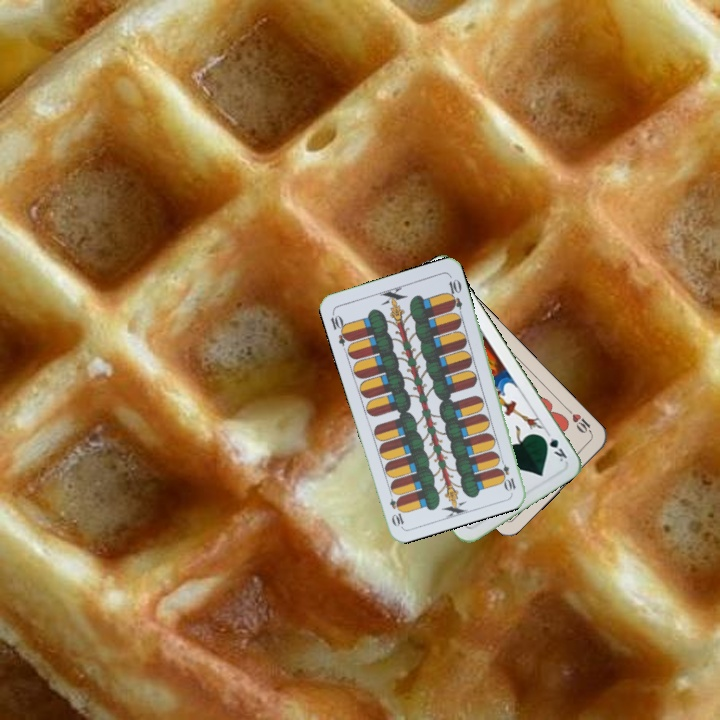E10: (326, 308, 353, 348), (495, 454, 518, 494)
GK: (538, 427, 570, 464)
H10: (563, 405, 595, 438)
